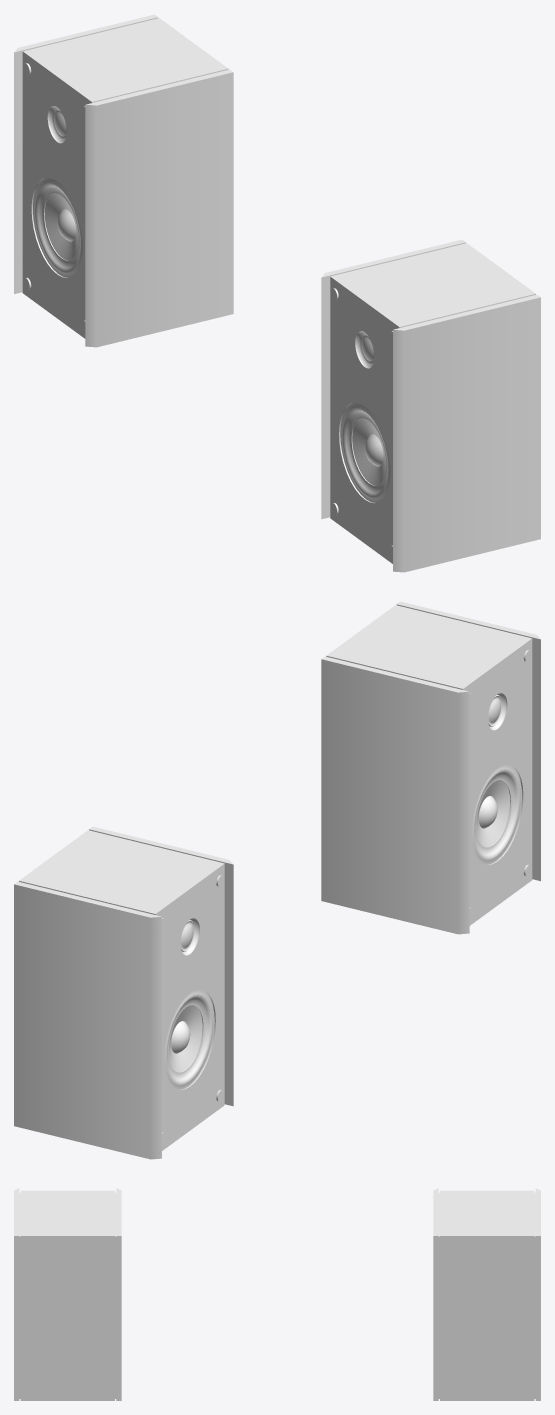
File: ParlantesEXPORT.glb
The picture shows the model from 3 angles, top to bottom: view 1: azimuth 30°, elevation 25°; view 2: azimuth 150°, elevation 25°; view 3: azimuth 270°, elevation 25°; orthographic projection. The views are drawn at different scales.
Parts seen in each view (by area): view 1: defaultMaterial1, defaultMaterial; view 2: defaultMaterial, defaultMaterial1; view 3: defaultMaterial, defaultMaterial1.
Part boxes in pixels (x1=…): defaultMaterial1: x1=14, y1=14, x2=233, y2=347; defaultMaterial: x1=321, y1=239, x2=540, y2=572; defaultMaterial: x1=321, y1=601, x2=540, y2=934; defaultMaterial1: x1=14, y1=826, x2=233, y2=1159; defaultMaterial: x1=14, y1=1188, x2=121, y2=1400; defaultMaterial1: x1=433, y1=1188, x2=540, y2=1400.
Size of the model in its own units: 0.017 by 0.0273 by 0.079.
1 material, 1 textured.
